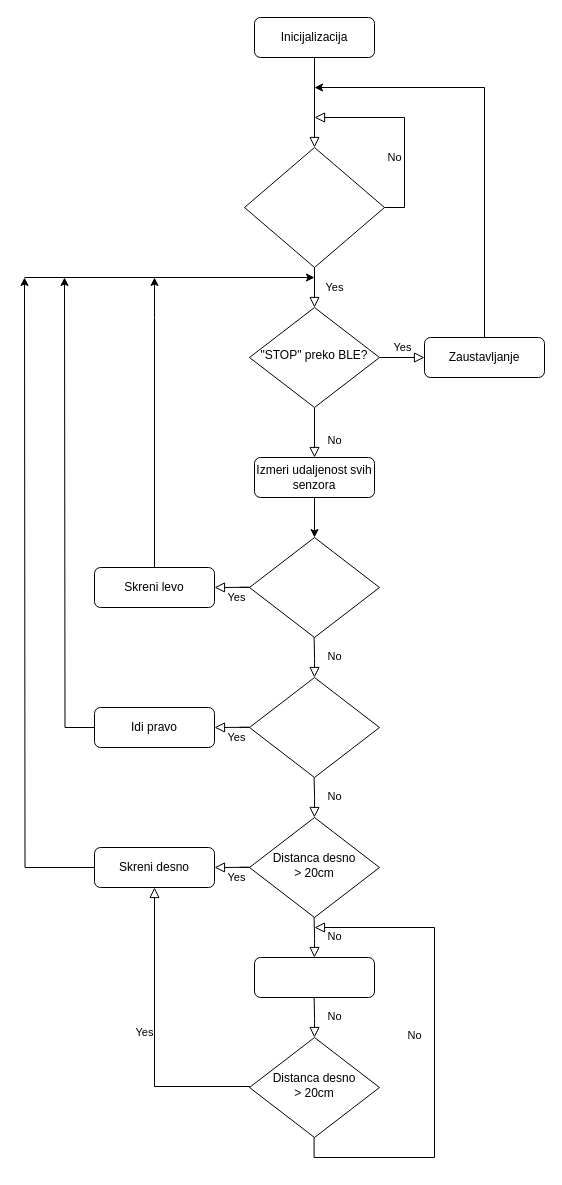
This 562x1185 diagram has some shape labels left out. Here are the shapes that lost their labels. From the top down, the centre of each, then its label:
(314,207): Čekanje na "START" preko BLE
(314,587): Distanca levo > 20cm
(314,727): Distanca pravo > 20cm
(314,977): Vozi unazad
